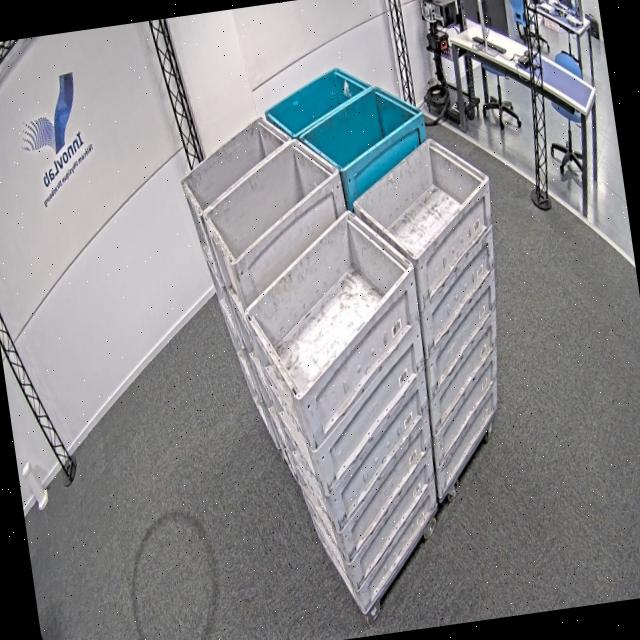Roll3G: (232, 202, 430, 409), (343, 127, 499, 270)
Roll4G: (192, 130, 352, 272), (172, 111, 302, 221)
RollB4: (291, 76, 432, 180), (257, 58, 381, 146)
